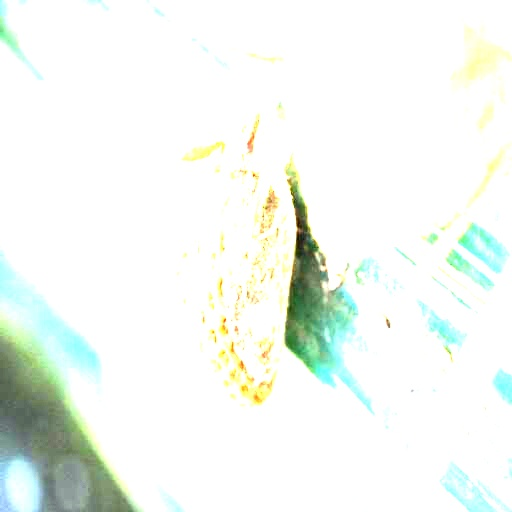Gray Mold: (166, 112, 297, 412)
